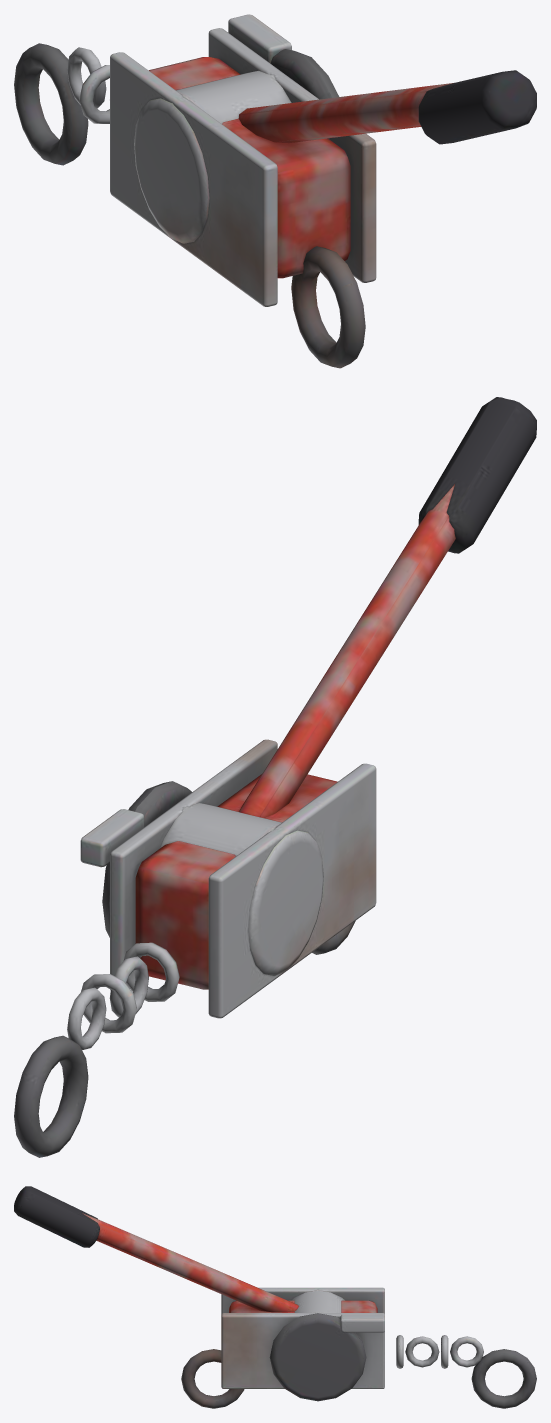
The model's file is come_along.glb.
The picture shows the model from 3 angles, top to bottom: view 1: azimuth 30°, elevation 25°; view 2: azimuth 150°, elevation 25°; view 3: azimuth 270°, elevation 25°; orthographic projection. The views are drawn at different scales.
Parts seen in each view (by area): view 1: ComeAlong; view 2: ComeAlong; view 3: ComeAlong.
Boxes of the visible parts, x1,y1,x2,y2 form: ComeAlong: [14, 14, 536, 368]; ComeAlong: [14, 397, 536, 1157]; ComeAlong: [14, 1186, 536, 1408].
Bounding box in the file's own units: 0.12 × 0.3271 × 0.7026.
Materials: 4 (4 with a texture image).
